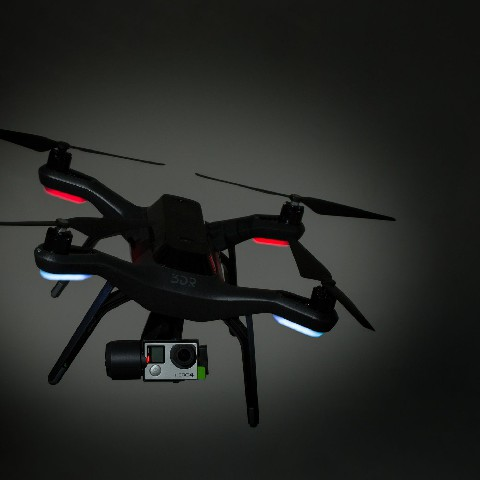maybay_khongnguoilai: (10, 120, 371, 406)
